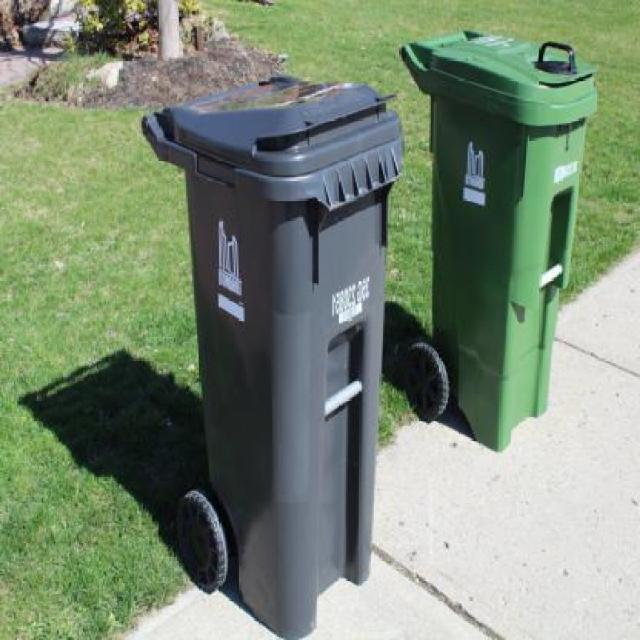garbage container: (128, 64, 406, 639), (390, 23, 608, 465)
